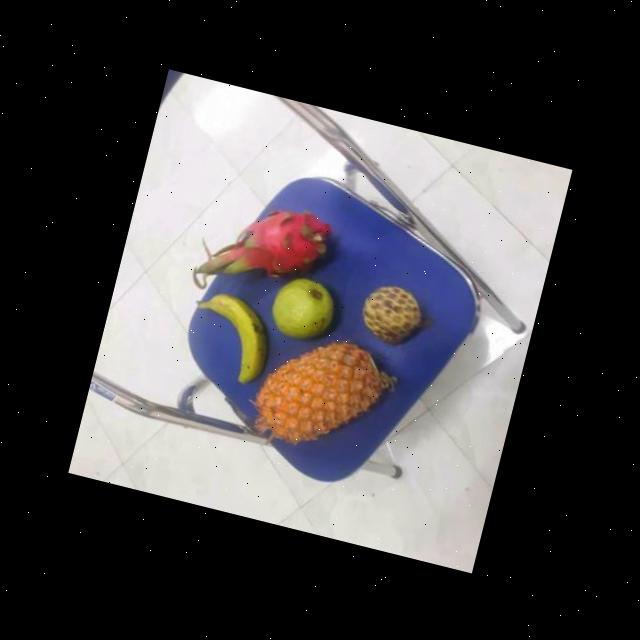Sakya fruit: (356, 280, 428, 354)
banana: (184, 290, 278, 388)
guava: (265, 270, 340, 347)
pineapple: (247, 327, 396, 464)
pitaya: (212, 194, 334, 304)
